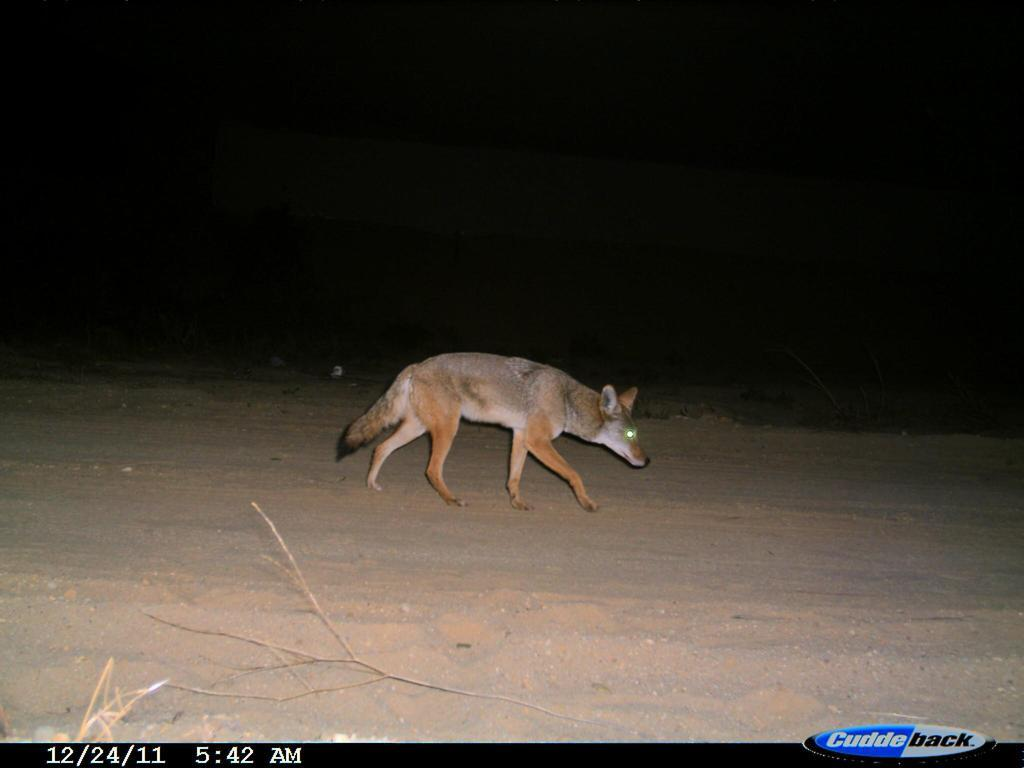coyote: (328, 329, 651, 525)
